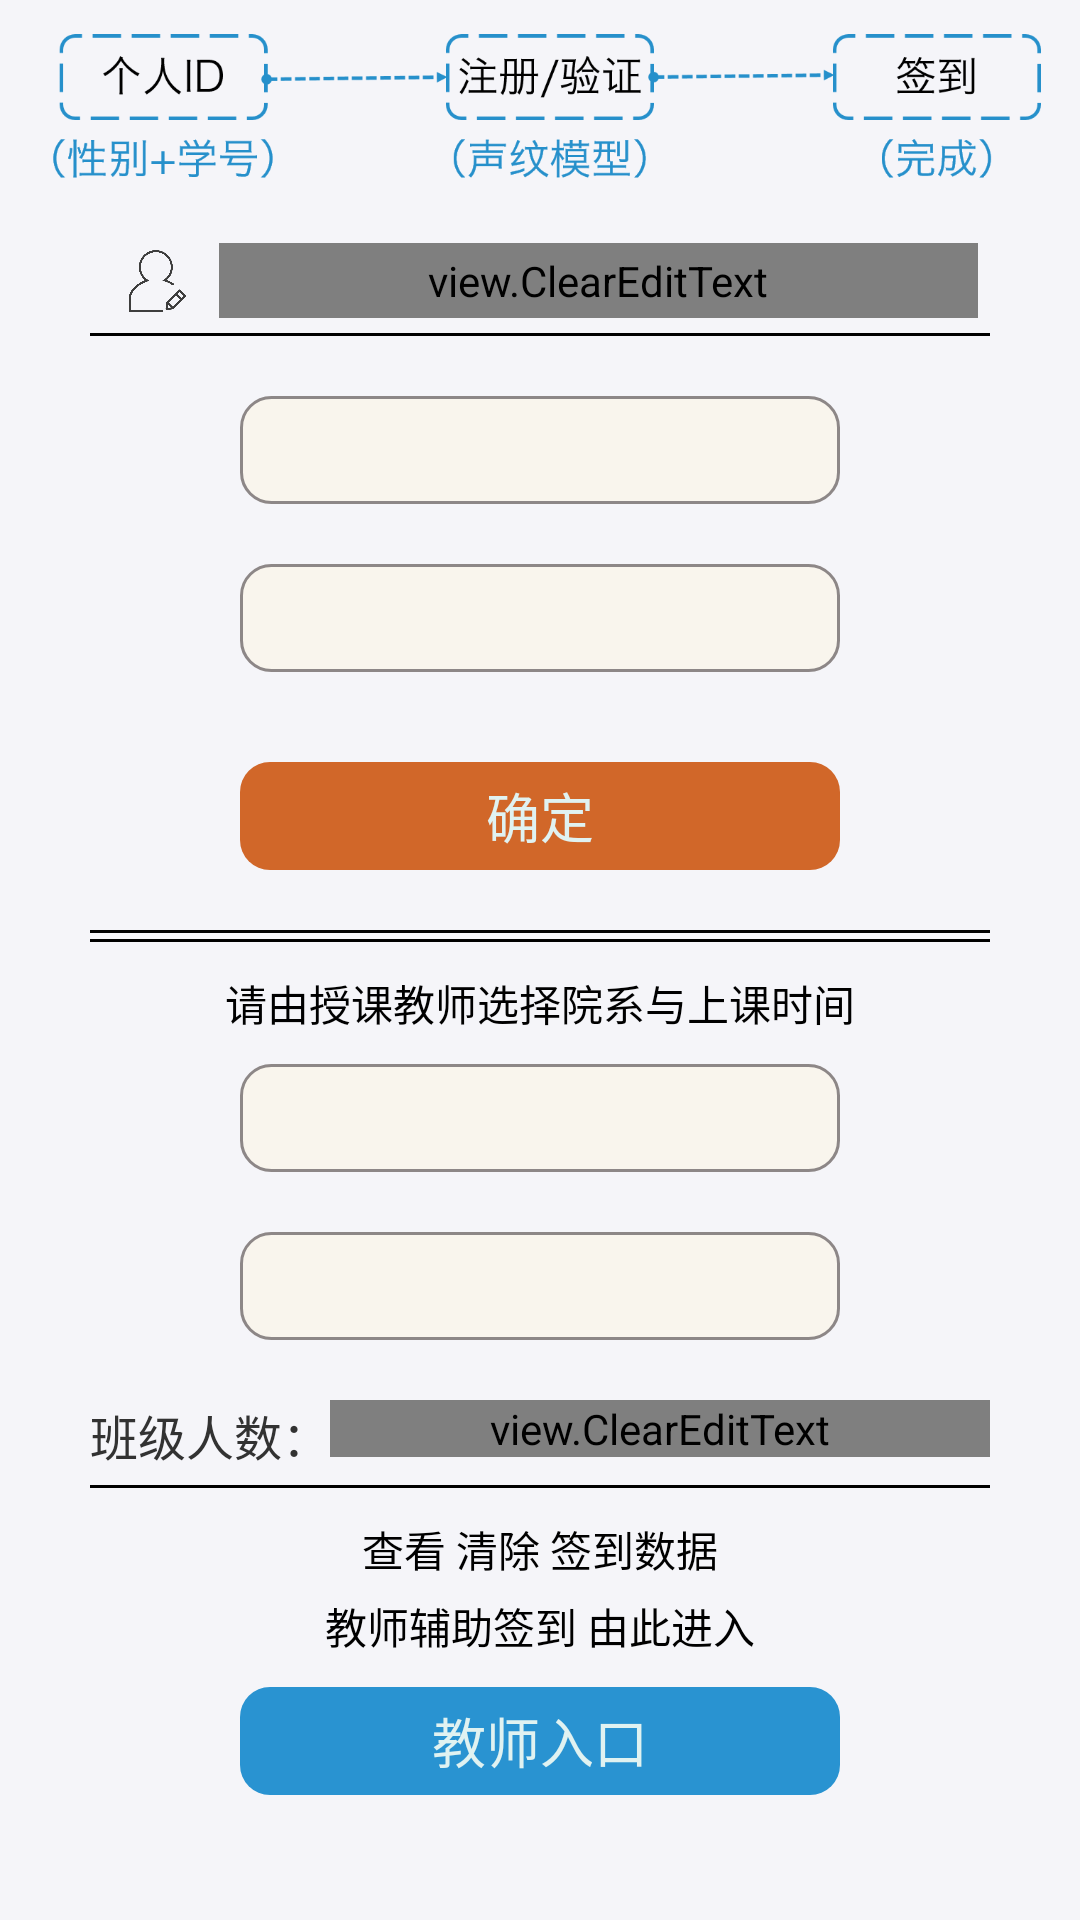

Icon click points for this 1080px x 1920px phone screenshot, format (x,y):
login user: (157,281)
